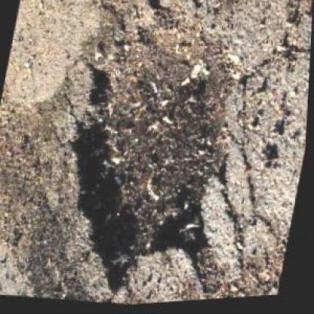Hueco: (42, 0, 260, 309)
